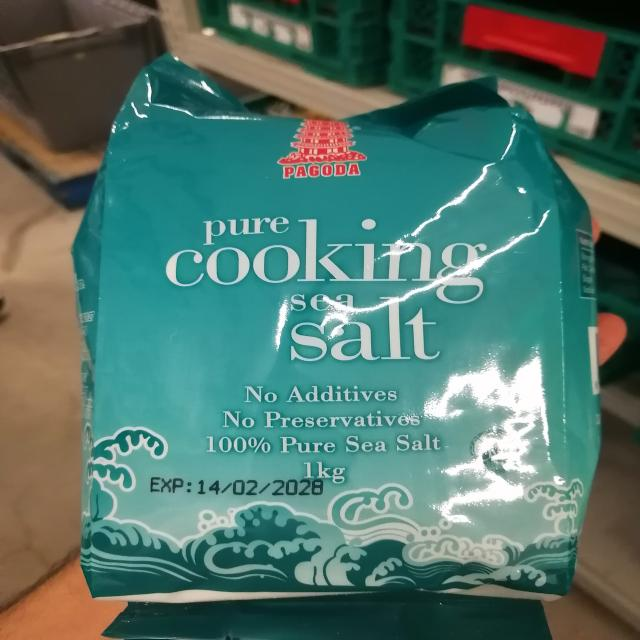object_name: (109, 94, 562, 596)
